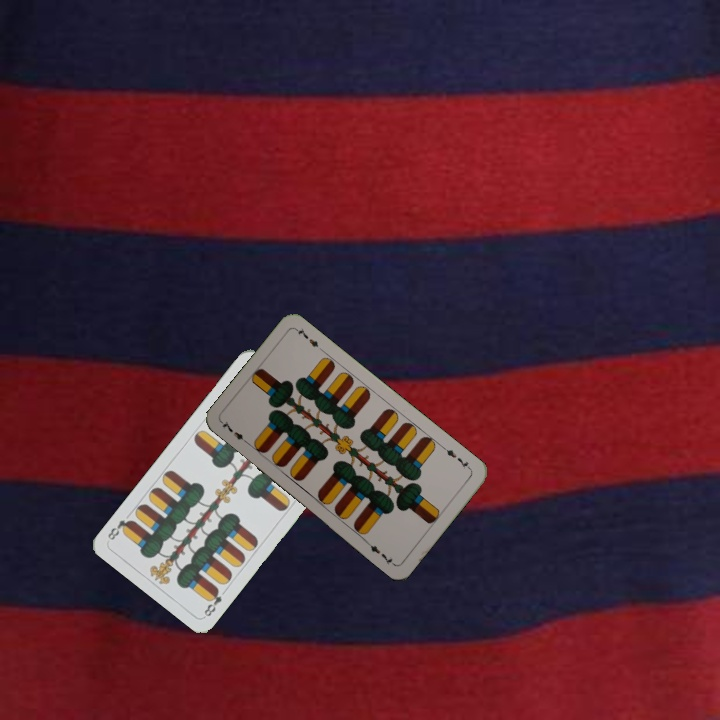E7: (217, 417, 252, 448), (439, 443, 474, 472)
E8: (200, 584, 224, 619)
